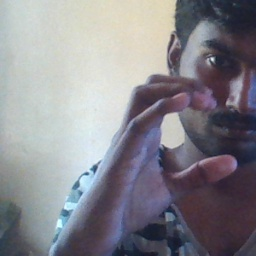C: (131, 69, 239, 207)
